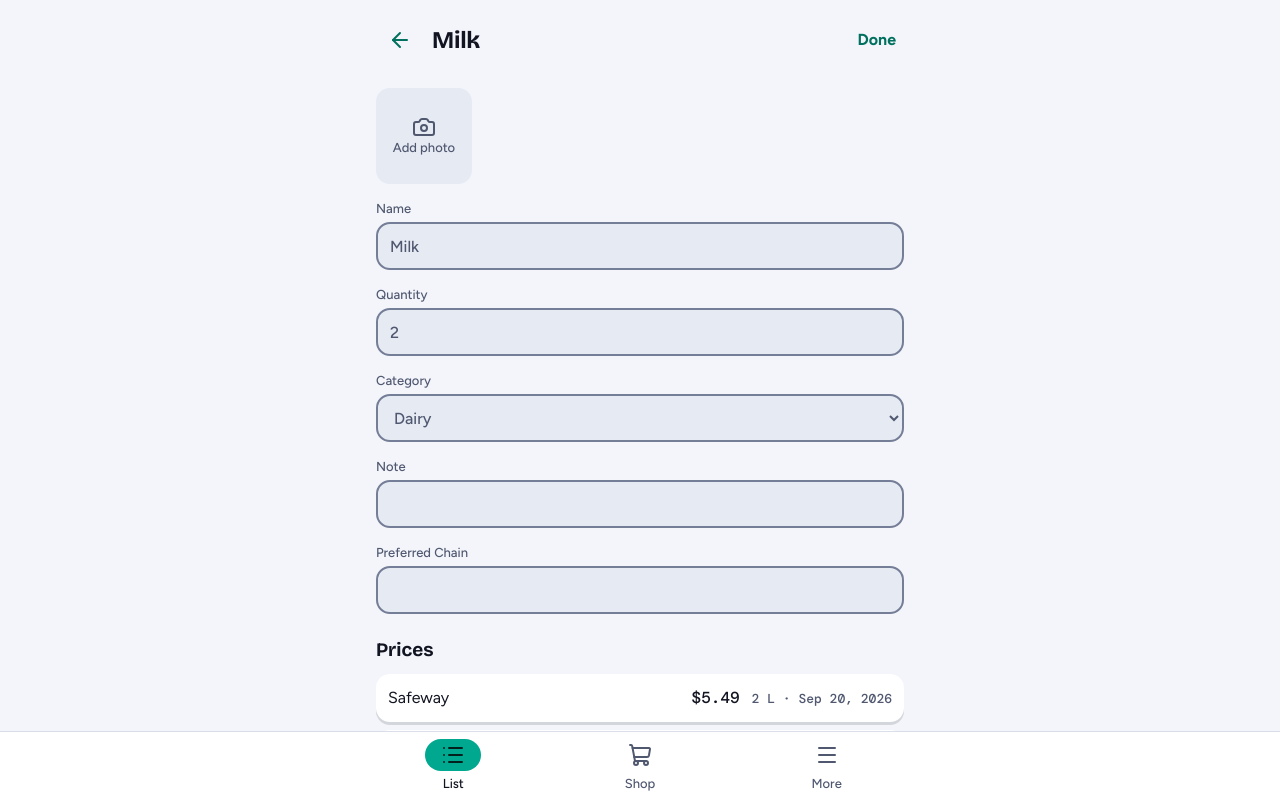
Test case: keeps typed chain and shows an error for a refuse save
In the dropdown labelled "Preferred Chain": (640, 590) [376,566,904,614], type "Costco"
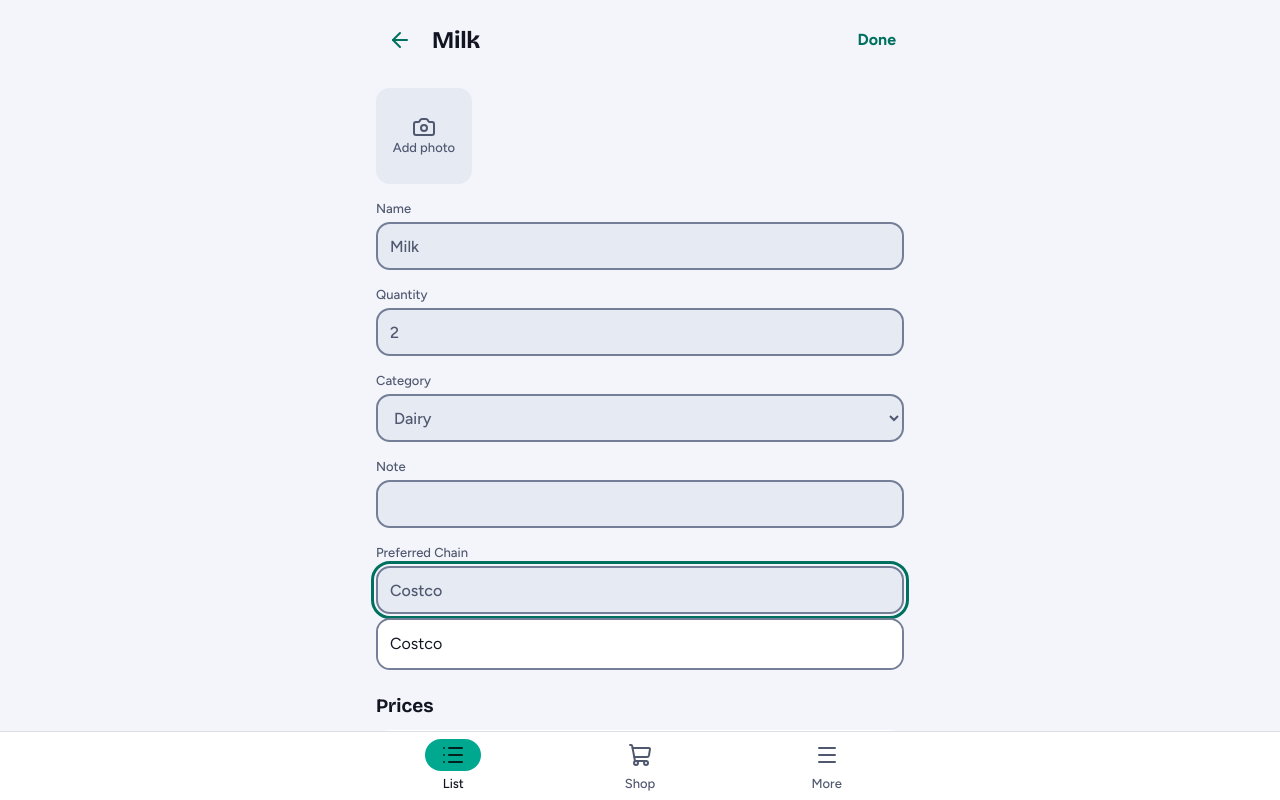
Click the button "Done": (877, 40) [850,16,904,64]
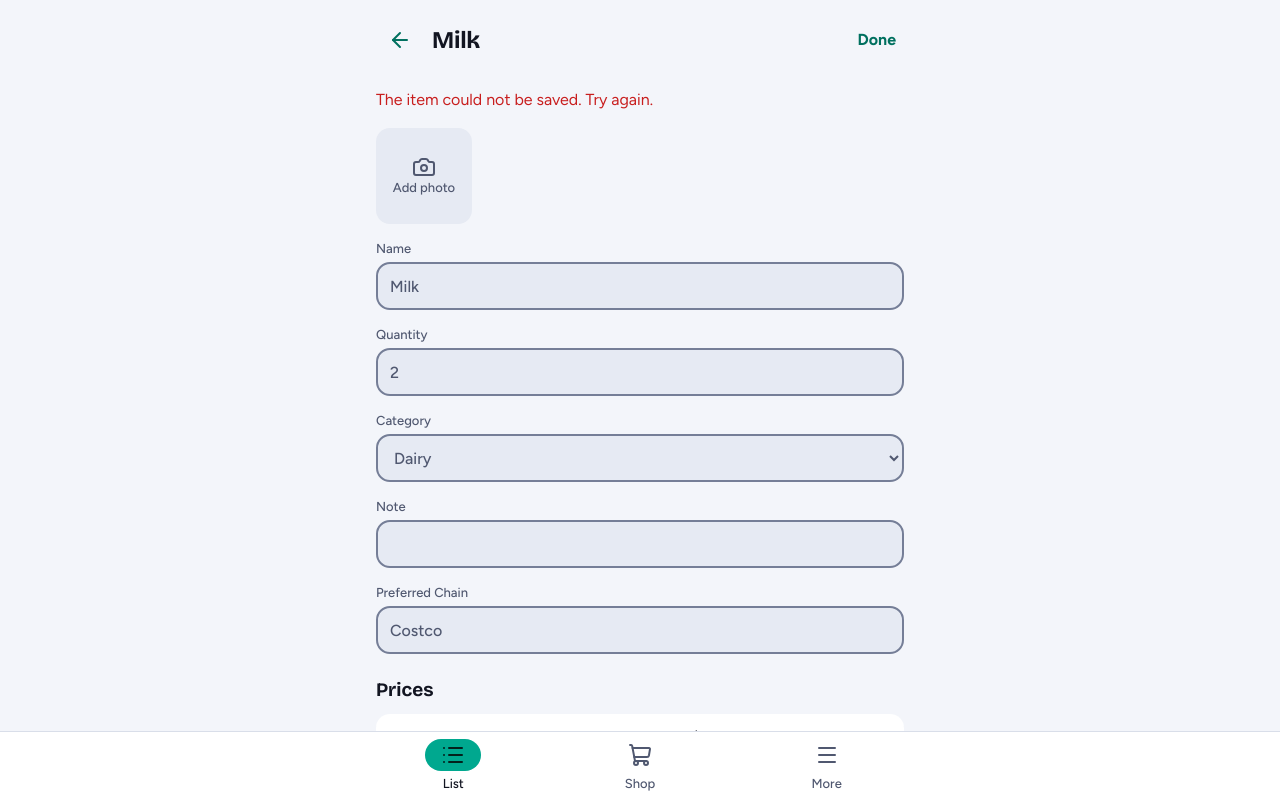
Check: the message shows "could not be saved", box [376,90,653,109]
